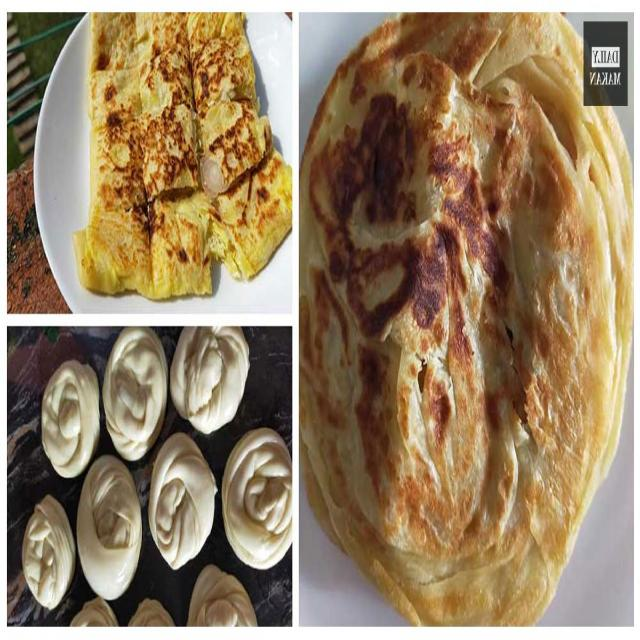Paratha: (299, 11, 633, 609), (80, 20, 278, 283)
